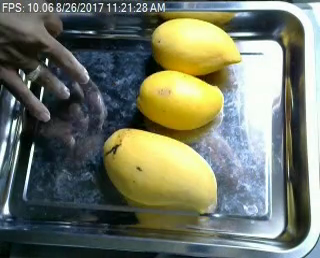Mango: (101, 129, 218, 212), (138, 69, 222, 129), (152, 19, 241, 75)
